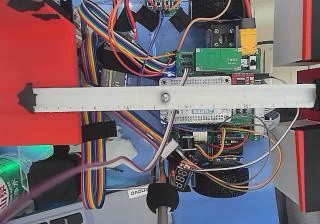ironball: (159, 91, 170, 102)
